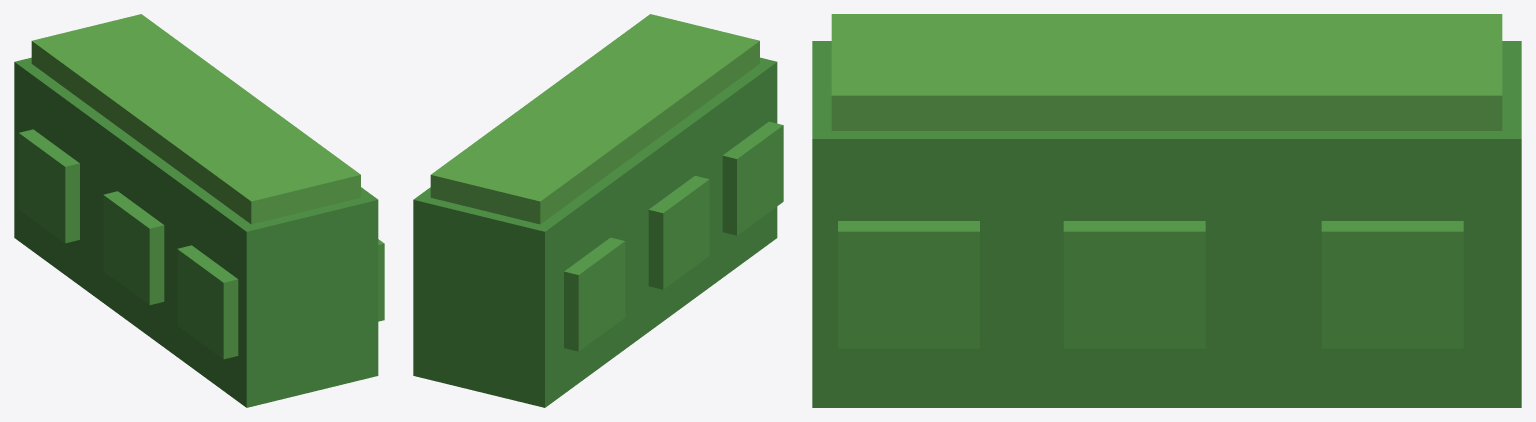
File: a-hedge.glb
3 views of the same model, side by side, from view 1: azimuth 30°, elevation 25°; view 2: azimuth 150°, elevation 25°; view 3: azimuth 270°, elevation 25° (orthographic). The views are drawn at different scales.
Visible parts, largest first — view 1: a-hedge; view 2: a-hedge; view 3: a-hedge.
Boxes of the visible parts, x1,y1,x2,y2 form: a-hedge: [14, 14, 384, 407]; a-hedge: [413, 14, 783, 407]; a-hedge: [812, 14, 1521, 407].
Size of the model in its own units: 0.44 by 0.52 by 1.1.
